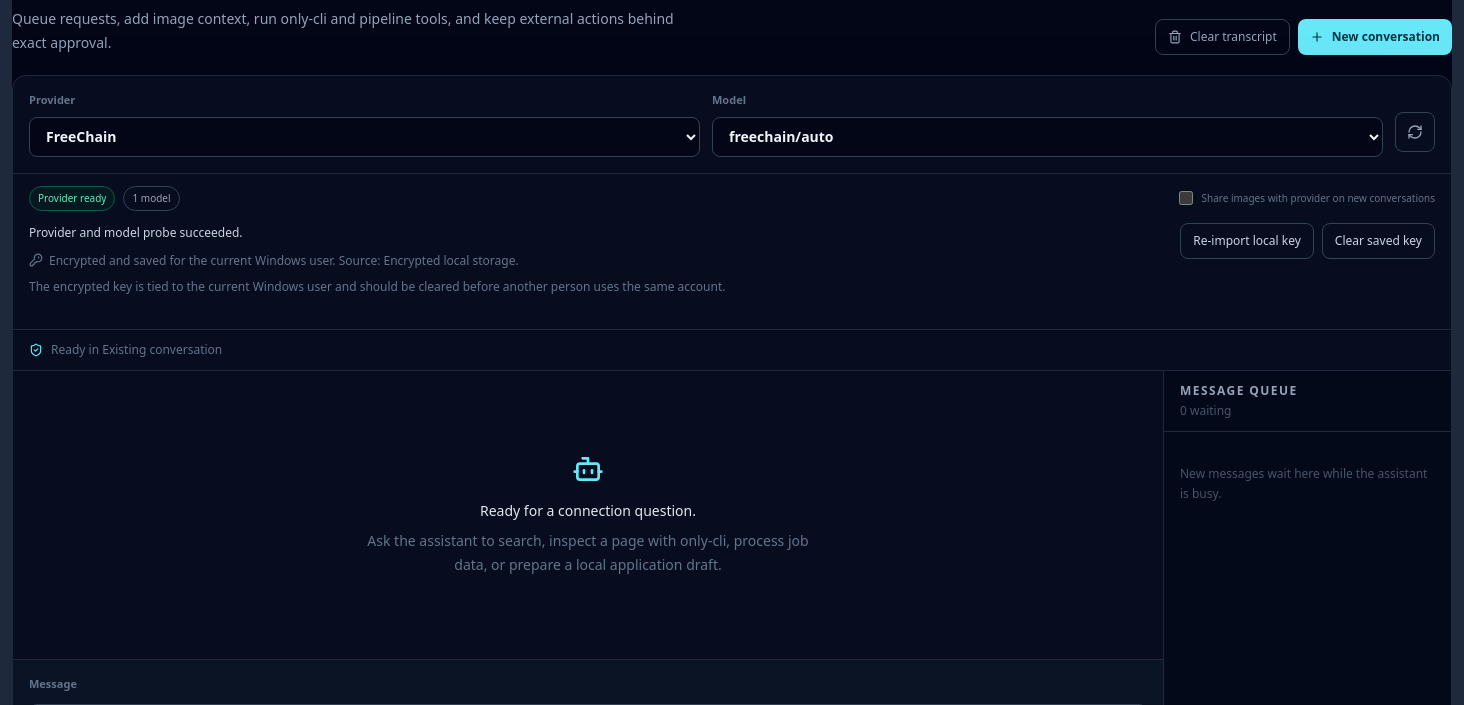
assistant provider readiness and credential controls › keeps actions disabled when provider refresh rejects after a successful clear
The width and height of the screenshot is (1464, 705).
Check: the text "Provider ready" is shown, box [29,186,116,210]
Click the button "Clear saved key" at (1378, 240), box [1322,222,1435,258]
(page scrolled)
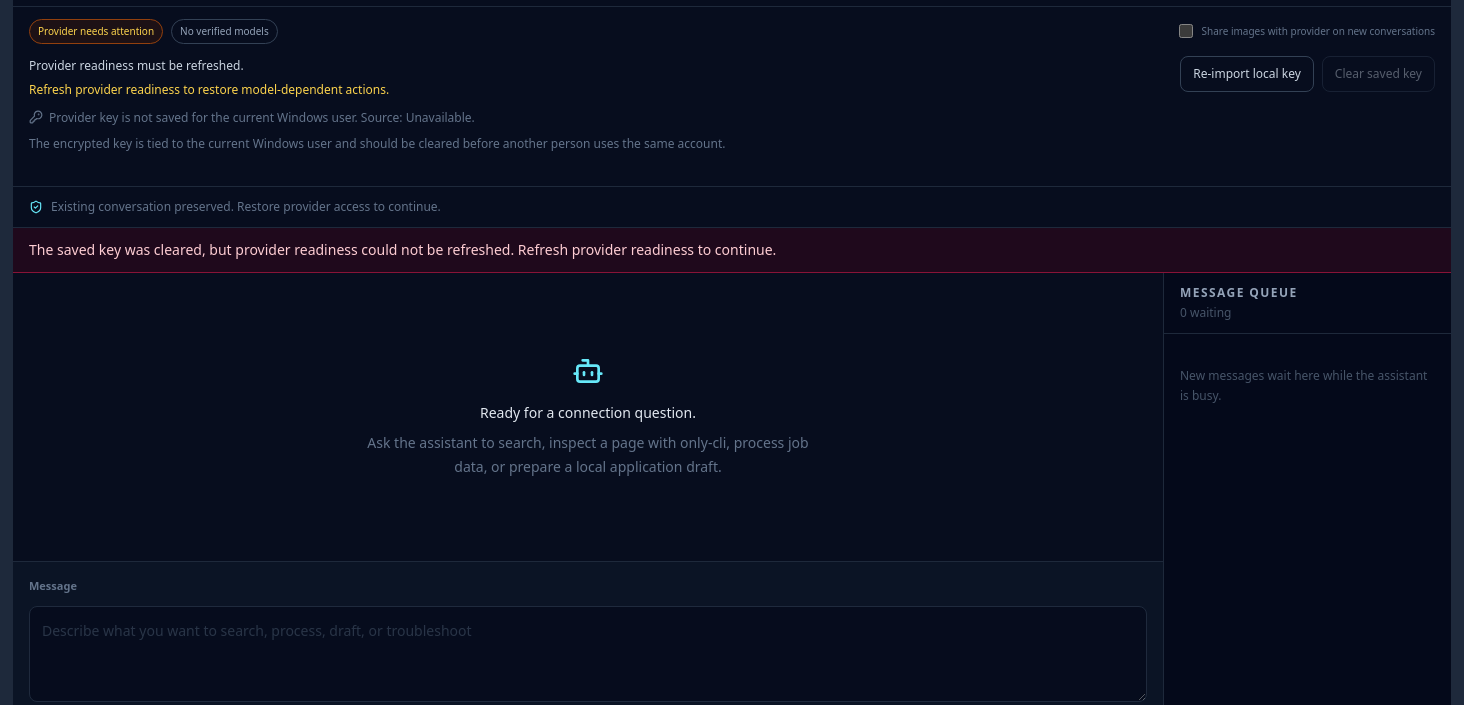
Check: the 2nd message shows "The saved key was cleared, but provider readiness could not be refreshed. Refresh provider readiness to continue.", box [29,240,776,258]
Check: the text "No verified models" is shown, box [171,18,278,44]
Check: the text box labelled "Message" is disabled, box [29,606,1147,702]
